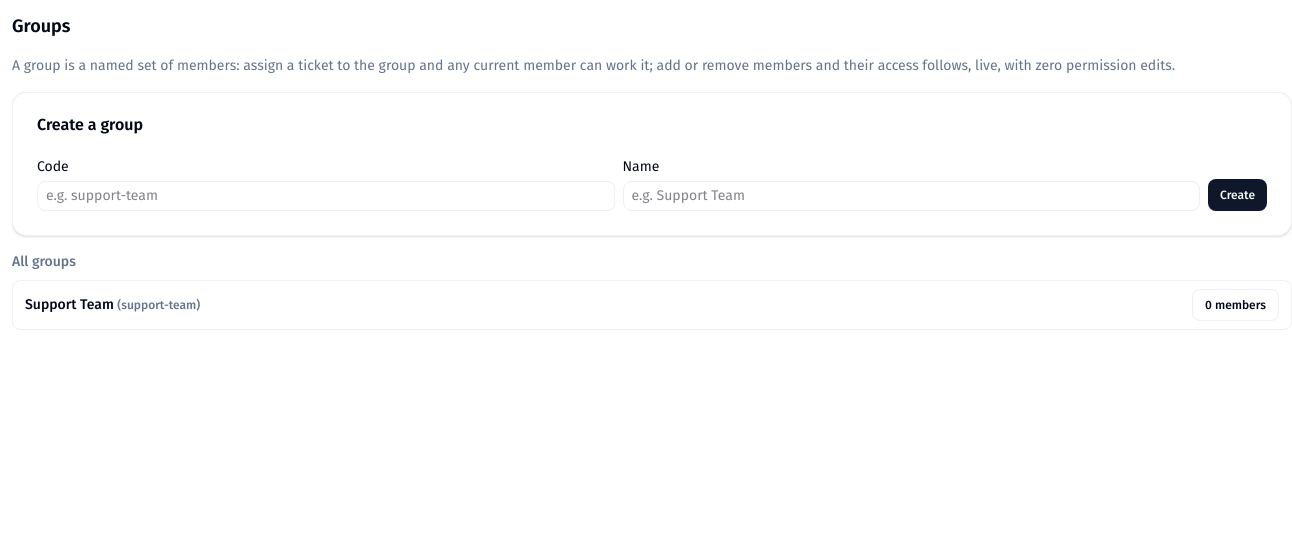
Test: AdminGroupsPage › adds a member to a group through the picker
Click the button with test id "admin-group-expand-g1" at [1236, 305], box [1192,289,1279,321]
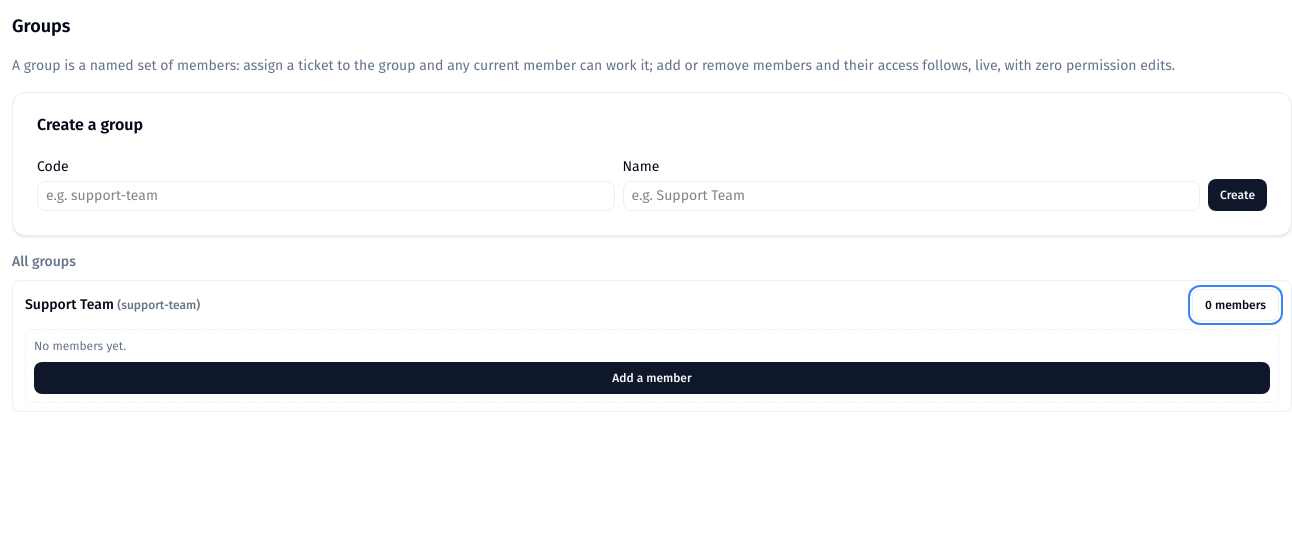
Now the button with test id "admin-group-add-button-g1" is shown
Click the button with test id "admin-group-add-button-g1" at [652, 378], box [34,362,1270,394]
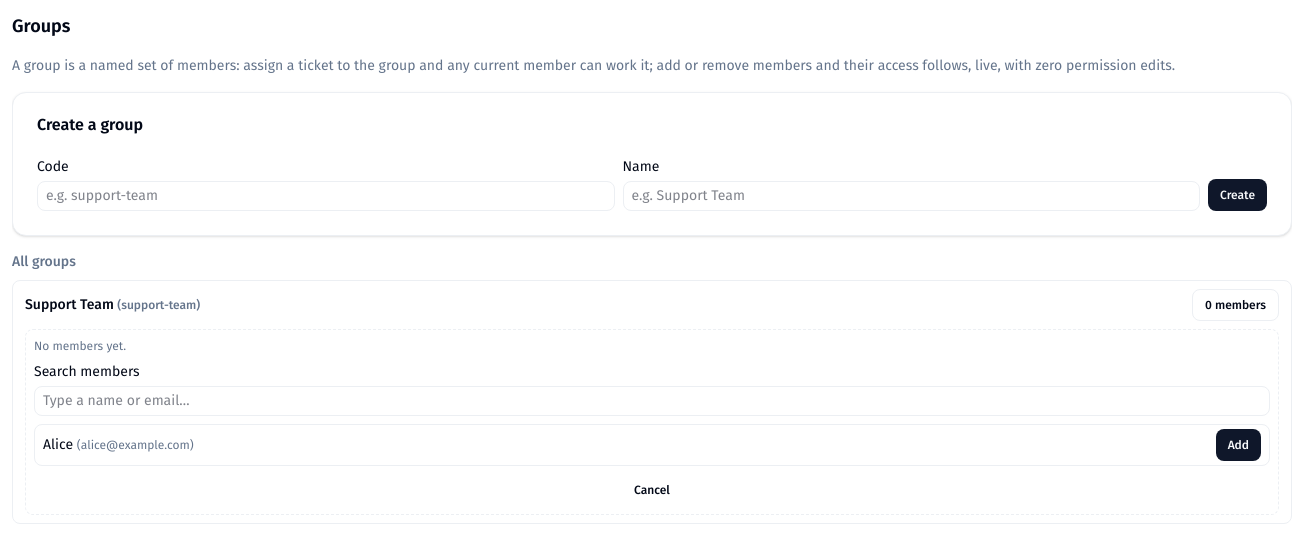
Now the button with test id "admin-group-add-member-g1-m1" is shown
Now the list with test id "admin-group-member-results-g1" is shown, box [34,424,1270,466]
Click the button with test id "admin-group-add-member-g1-m1" at [1238, 445], box [1216,429,1261,461]
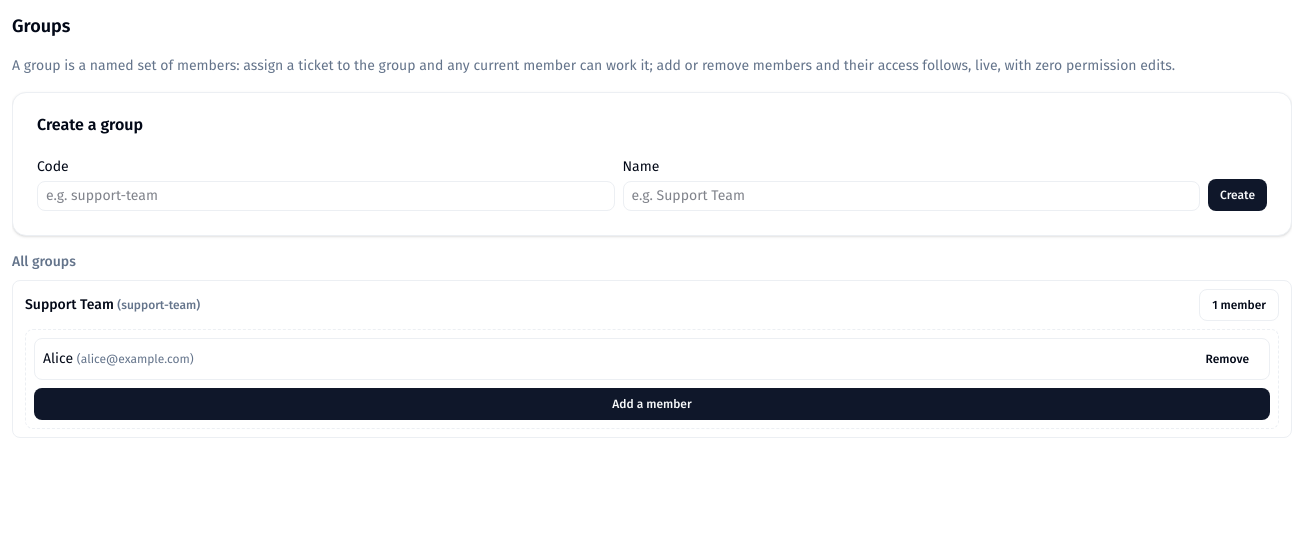
Now the button with test id "admin-group-expand-g1" reads "1 member", box [1199,289,1279,321]
